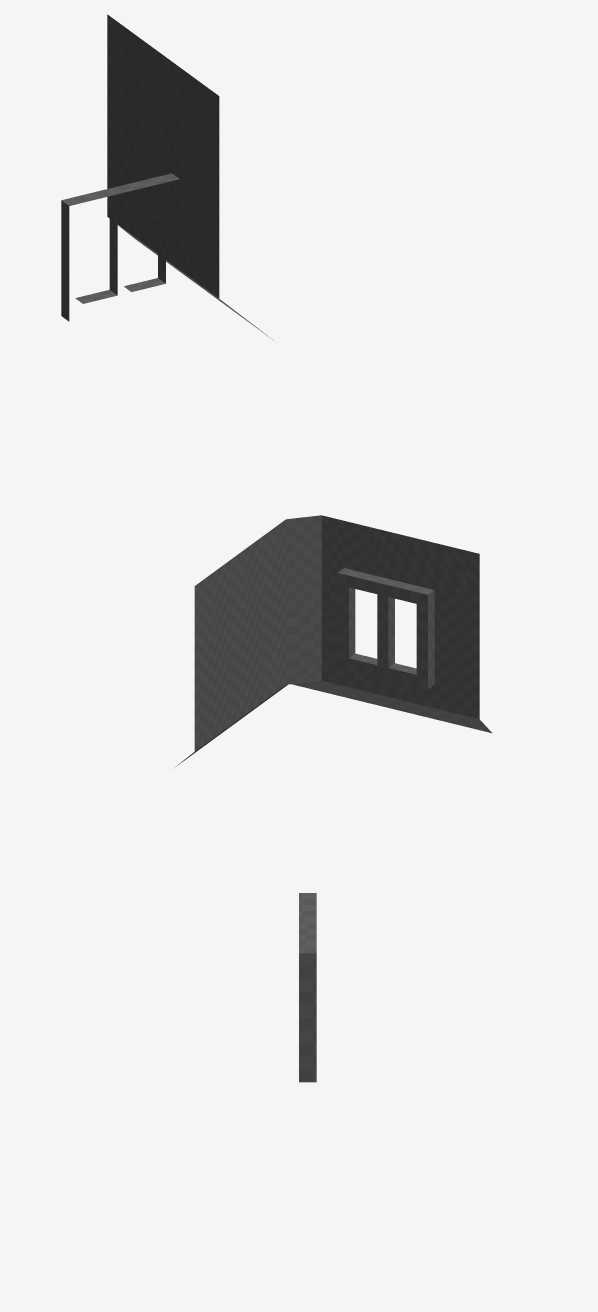
3 renders of one model, top to bottom at view 1: azimuth 30°, elevation 25°; view 2: azimuth 150°, elevation 25°; view 3: azimuth 270°, elevation 25°, orthographic. The views are drawn at different scales.
Visible parts, largest first — view 1: 1; view 2: 1; view 3: 1.
Part boxes in pixels (x1=…): 1: x1=61, y1=14, x2=273, y2=340; 1: x1=176, y1=515, x2=492, y2=766; 1: x1=299, y1=893, x2=316, y2=1082.
Size of the model in its own units: 4 by 2 by 4.
Materials: 2 (2 with a texture image).
